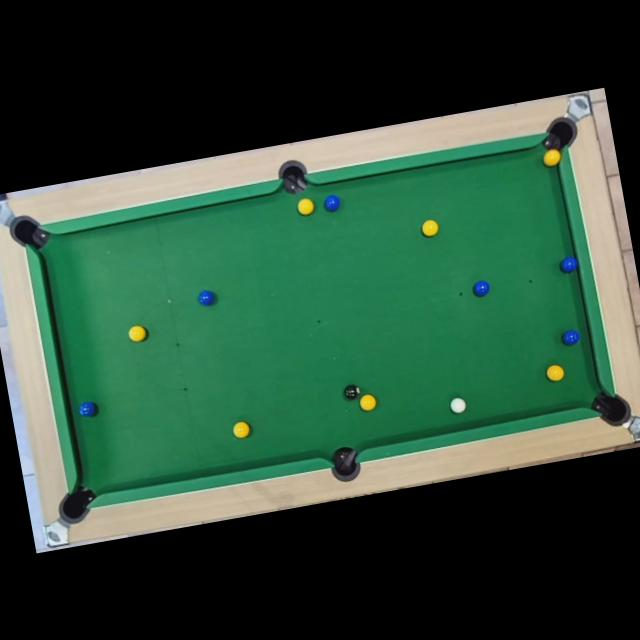Ball: (358, 392, 378, 412), (126, 324, 146, 344), (419, 218, 440, 237), (448, 396, 468, 415), (561, 328, 581, 347), (543, 147, 562, 167), (231, 420, 251, 439), (545, 363, 565, 382), (472, 279, 491, 298), (558, 256, 578, 274), (322, 194, 342, 212), (296, 197, 314, 216), (78, 401, 96, 419), (198, 288, 215, 306), (343, 384, 361, 399)
